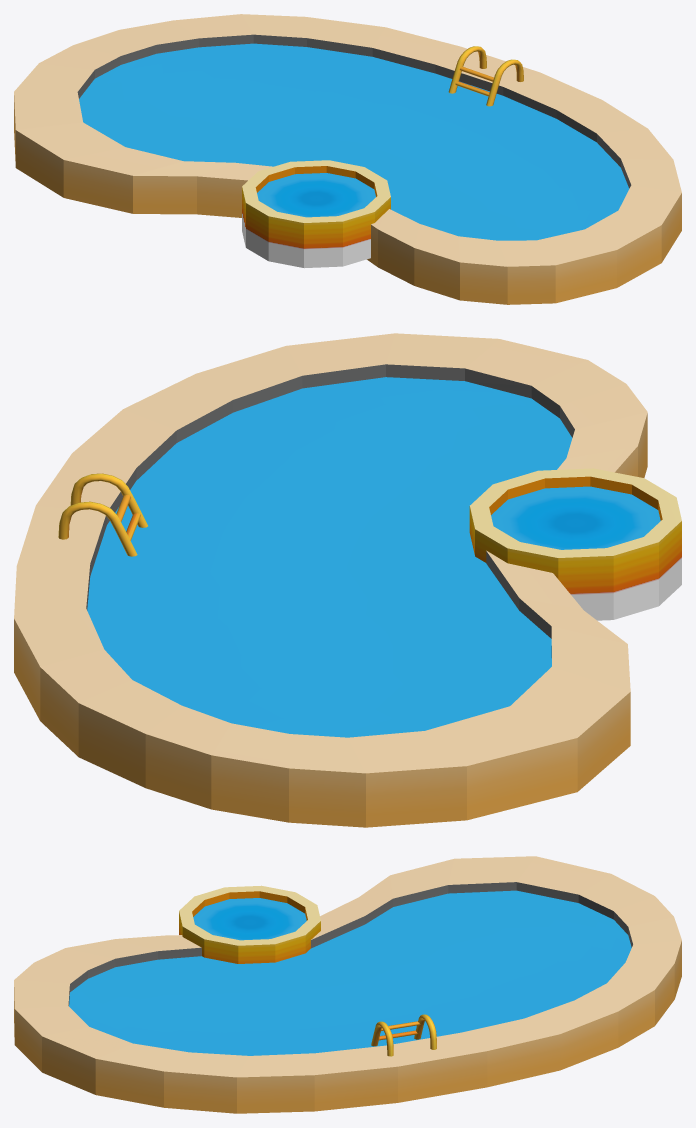
Rendered from Pool_lv1_v2.FBX.
3 renders of one model, top to bottom at view 1: azimuth 30°, elevation 25°; view 2: azimuth 150°, elevation 25°; view 3: azimuth 270°, elevation 25°, orthographic. The views are drawn at different scales.
Visible parts, largest first — view 1: Lv1; view 2: Lv1; view 3: Lv1.
Part boxes in pixels (left/top/right/bottom): Lv1: left=14, top=14, right=681, bottom=304; Lv1: left=14, top=333, right=681, bottom=827; Lv1: left=14, top=856, right=681, bottom=1113.
Size of the model in its own units: 14.77 by 1.91 by 18.84.
